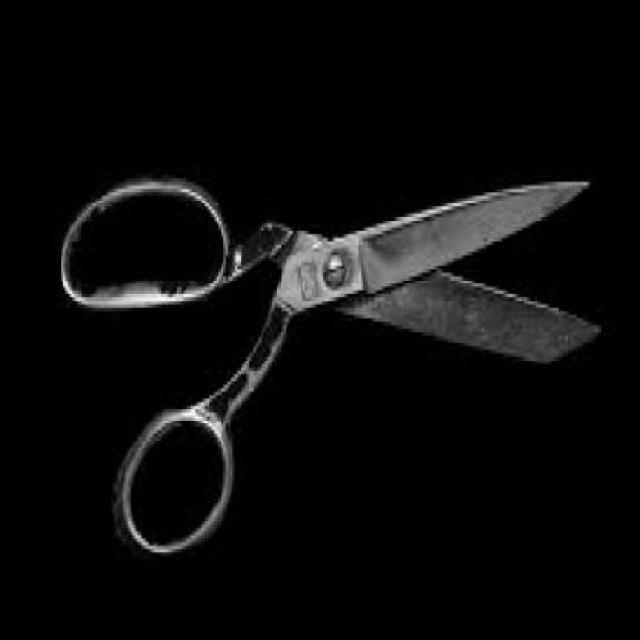scissors: (65, 175, 601, 552)
